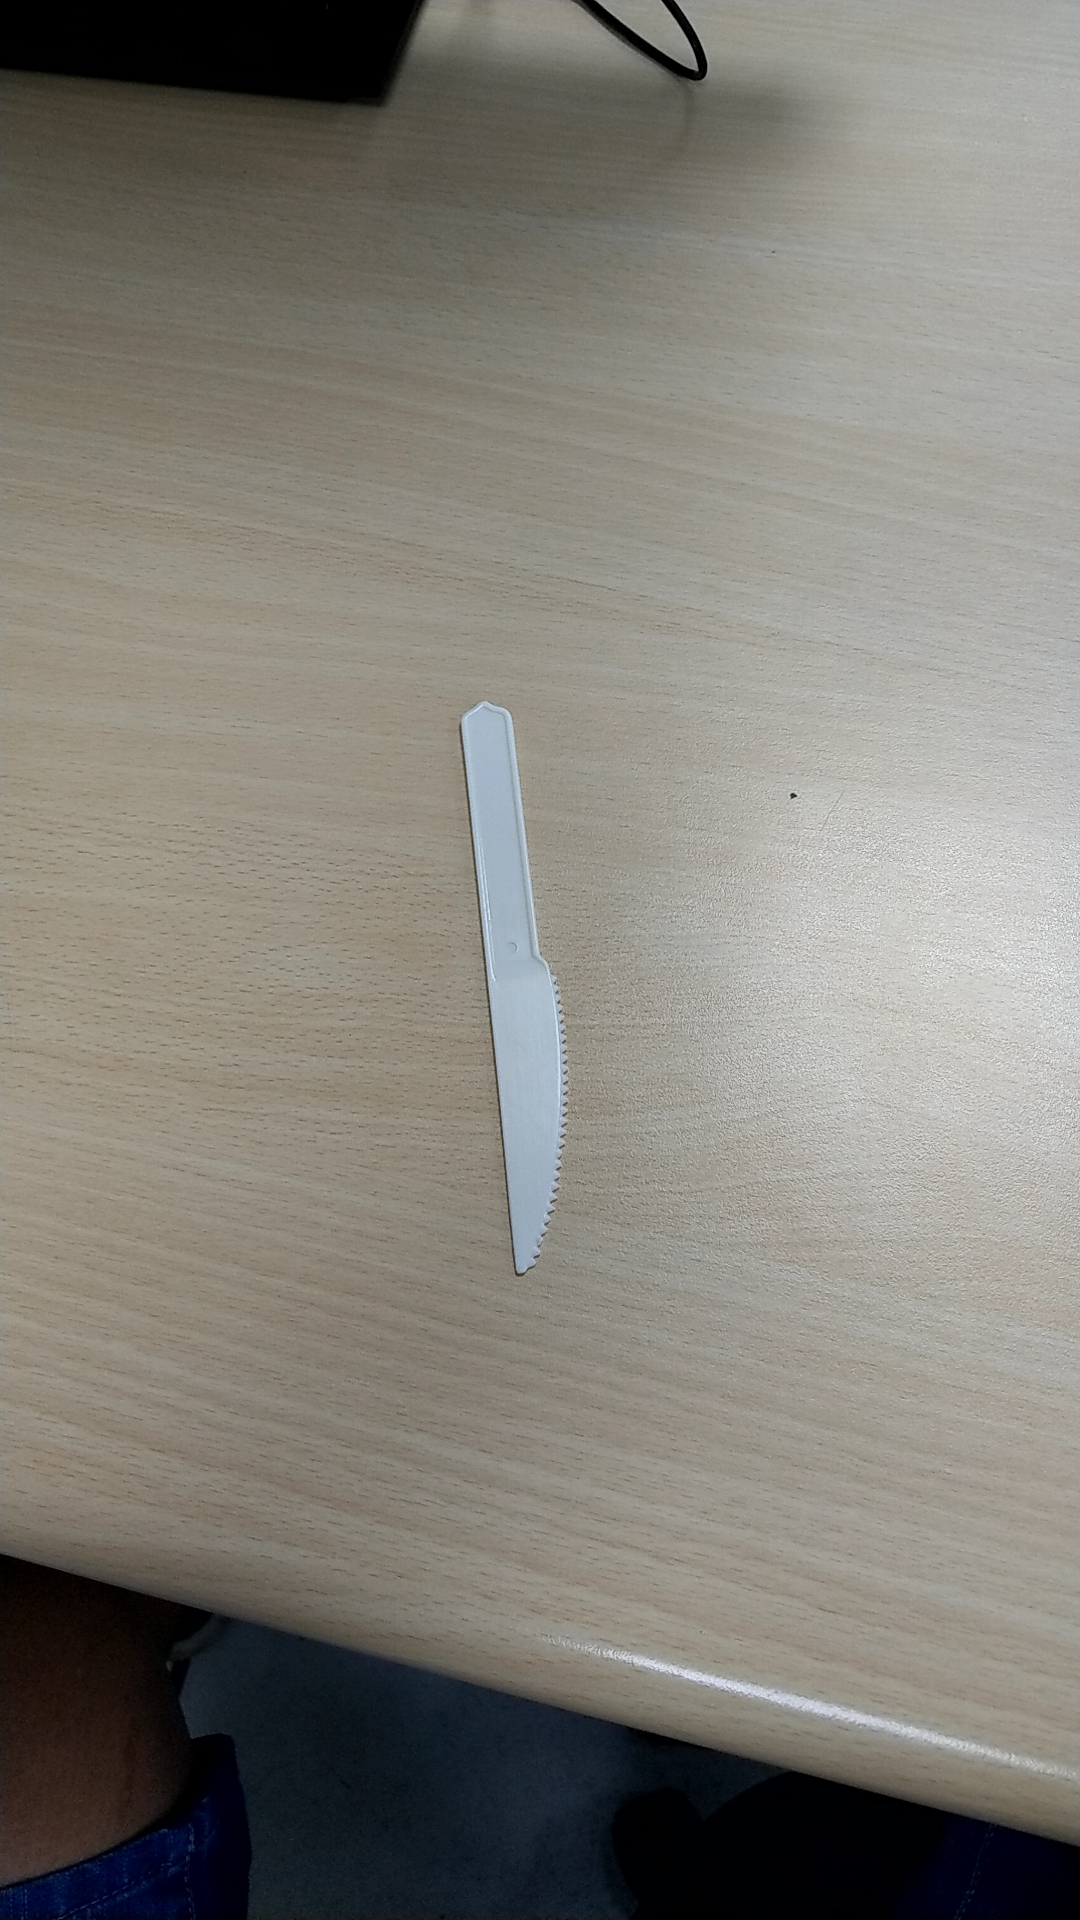knife: (430, 682, 620, 1300)
